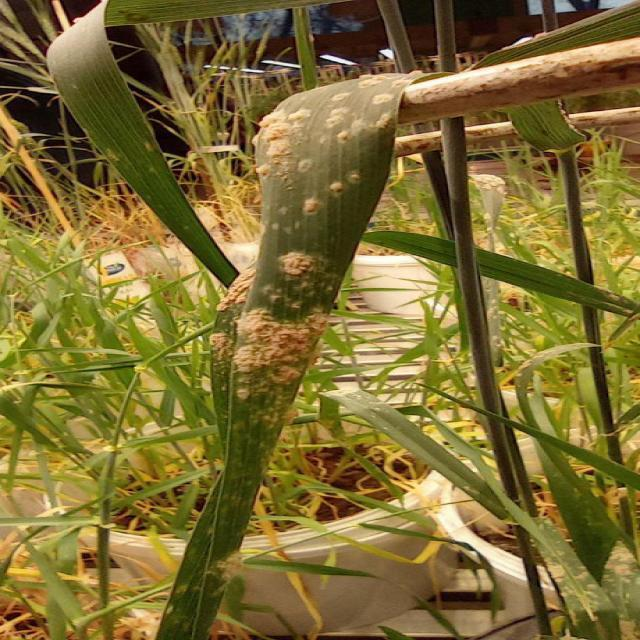Powdery Mildew: (220, 77, 393, 420)
